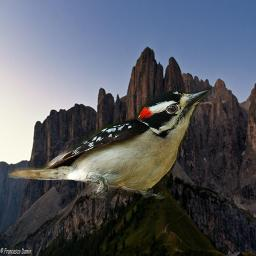Woodpecker: (8, 83, 212, 199)
